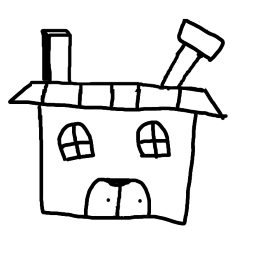chimney: (151, 13, 229, 92), (29, 19, 83, 91)
closed_window: (51, 119, 99, 165), (126, 117, 175, 162)
door: (81, 174, 157, 225)
roof: (7, 75, 229, 125)
wall: (31, 104, 201, 231)
